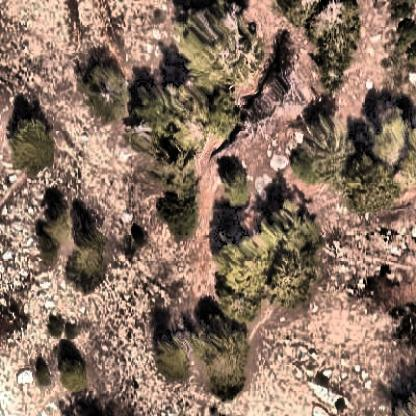tree-top: (210, 213, 318, 329), (130, 59, 228, 173), (173, 1, 270, 88), (181, 315, 264, 399), (347, 95, 416, 190), (285, 108, 351, 188), (338, 149, 406, 217), (74, 54, 133, 126), (1, 112, 60, 176), (151, 181, 202, 243), (62, 236, 117, 289), (153, 330, 200, 382), (215, 166, 259, 207), (53, 354, 94, 396)
